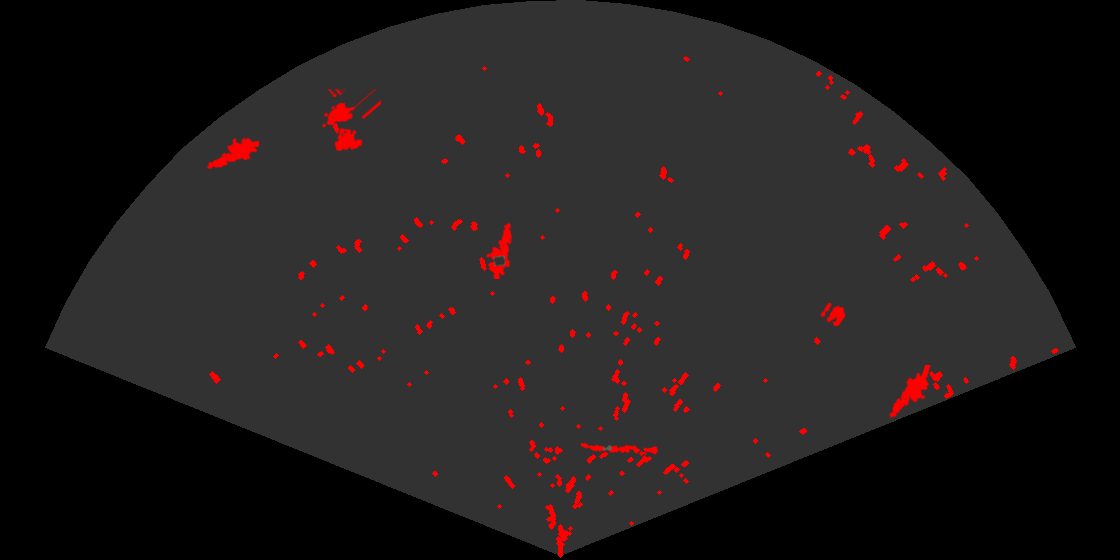ball: (819, 301, 847, 328)
cage: (320, 89, 381, 153)
chain: (578, 441, 658, 457)
frogman: (888, 365, 933, 420), (205, 136, 259, 171), (484, 220, 513, 279)
